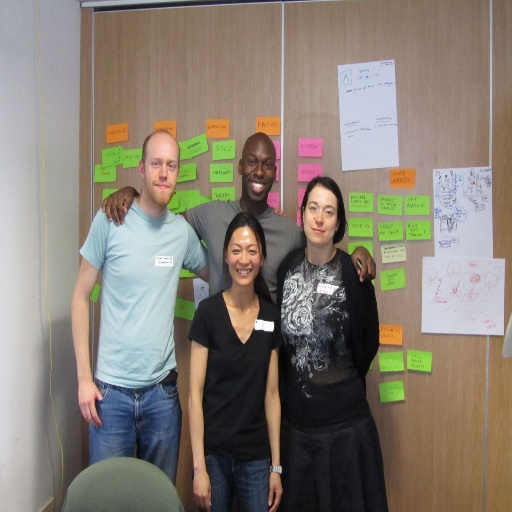hand: (101, 185, 136, 227), (78, 378, 102, 424), (351, 245, 377, 285), (192, 471, 210, 511), (267, 471, 283, 511), (274, 207, 288, 217)
